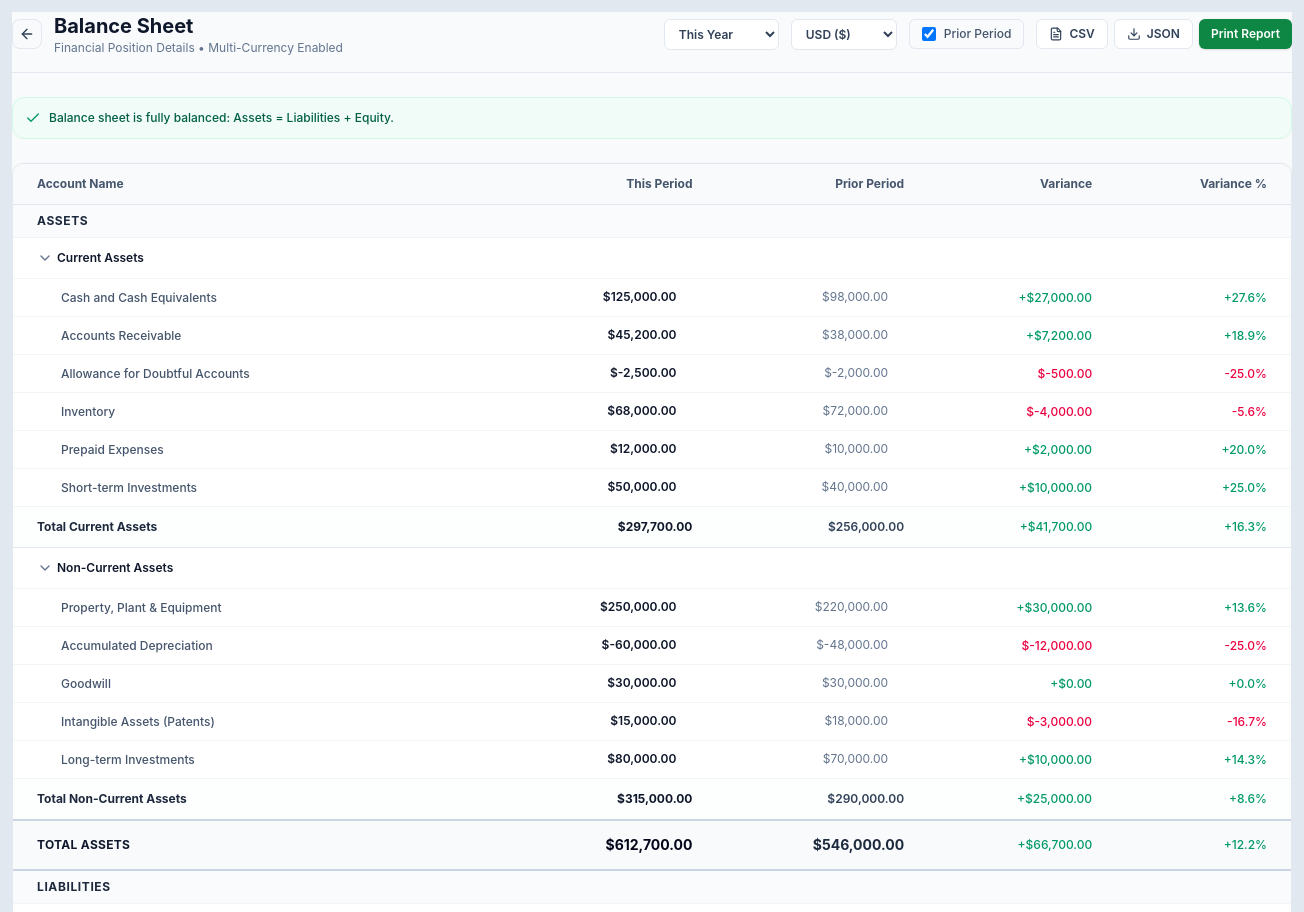
Test: BalanceSheet Component › converts balances dynamically when changing display currency
Check: the button "$125,000.00" is shown, box 603,289 -> 692,306
Select "EUR (€)" in the dropdown with id "bsCurrency" at (844, 34), box 791,18 -> 897,50
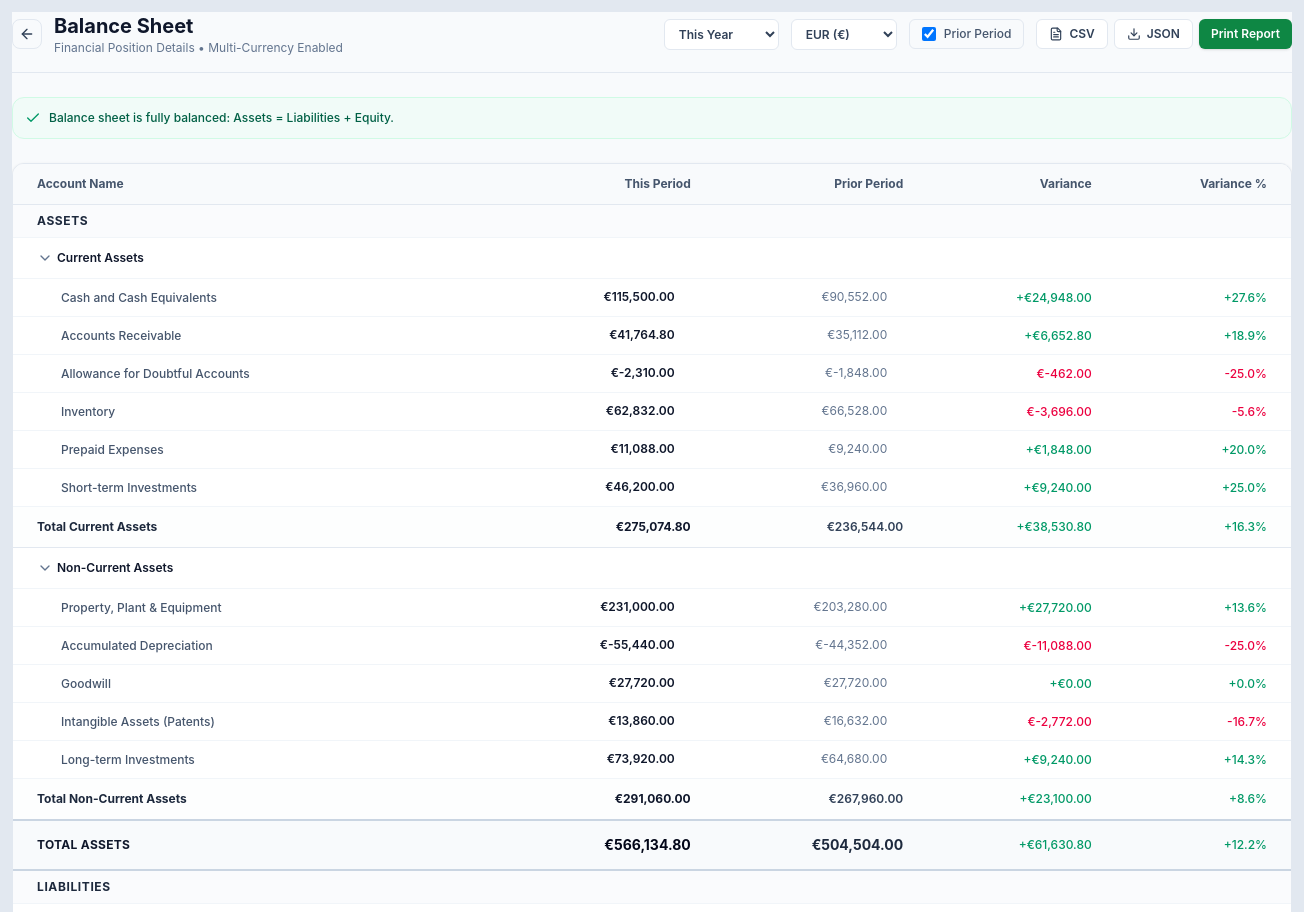
Check: the button "€115,500.00" is shown, box 604,289 -> 691,306
Check: the text "€566,134.80" is shown, box 503,820 -> 715,870
